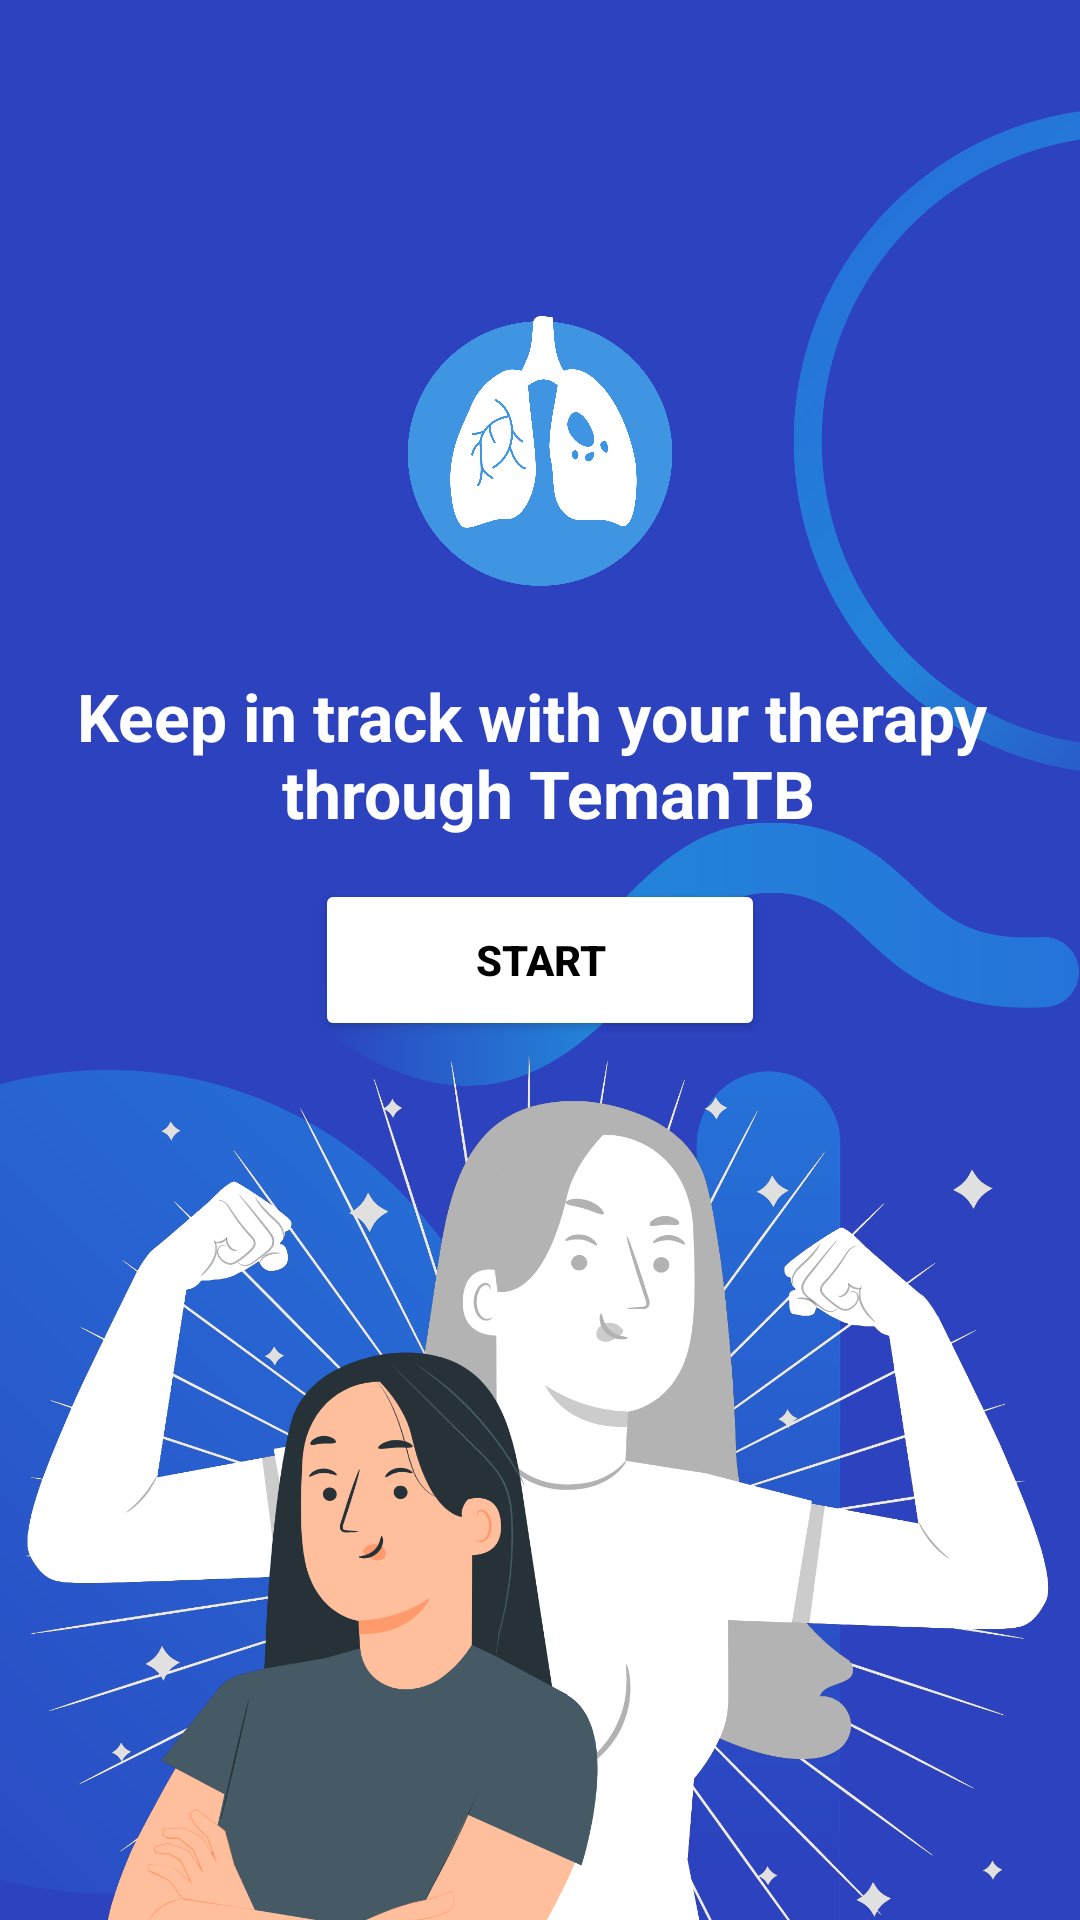

Point at icon controls on the screen. Image size 1080x1920, points as (x=x, y=y).
ttb circle: (x=540, y=451)
